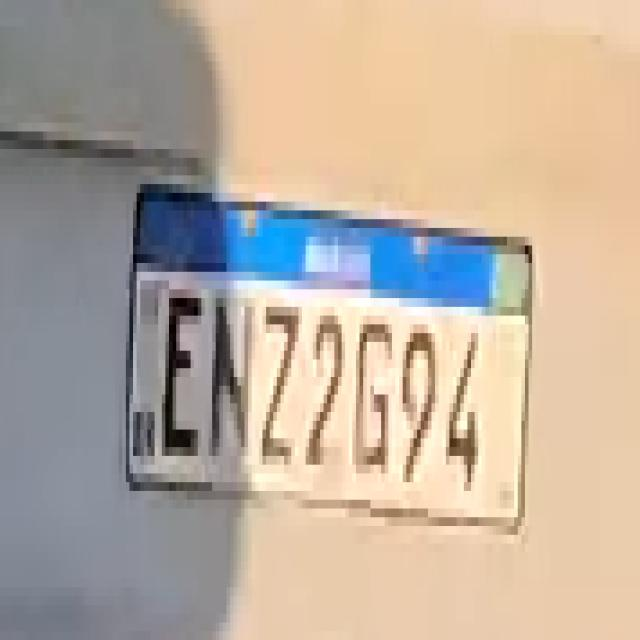Placa_mercosul_carro: (128, 181, 535, 533)
